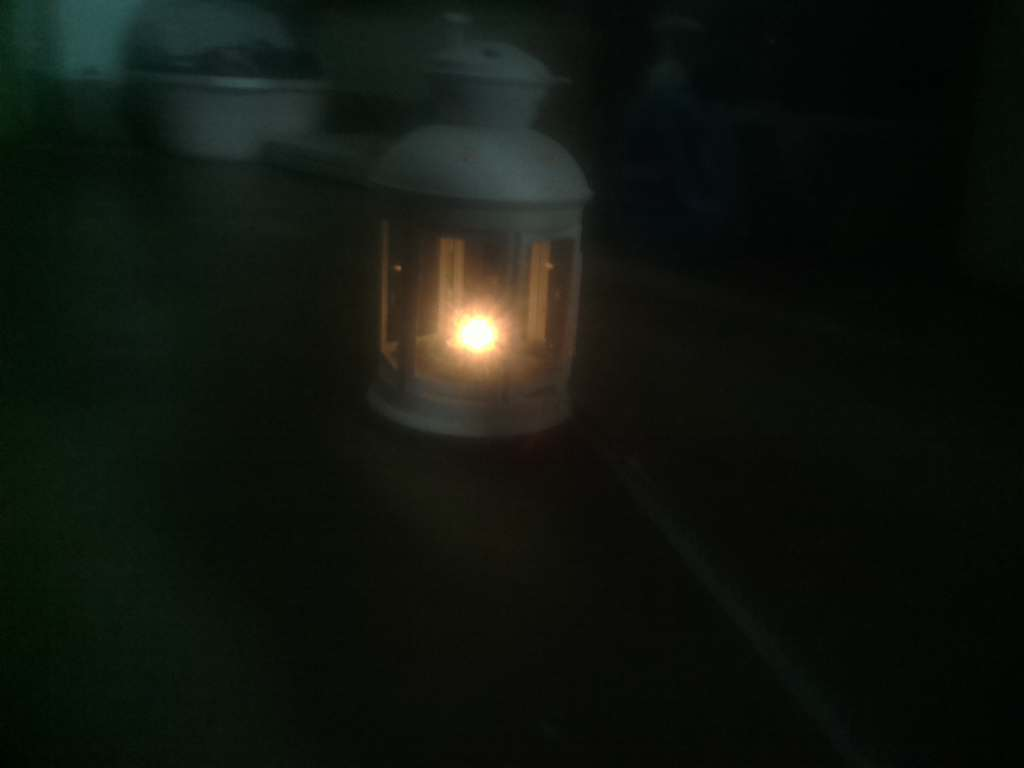fire: (431, 292, 533, 383)
